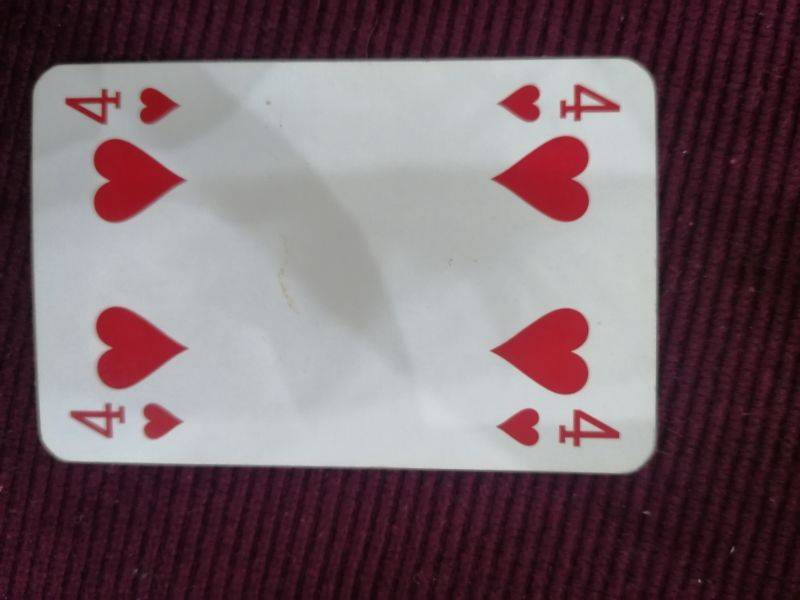4h: (493, 81, 627, 126), (496, 403, 624, 450), (56, 83, 188, 128), (65, 399, 189, 442)
